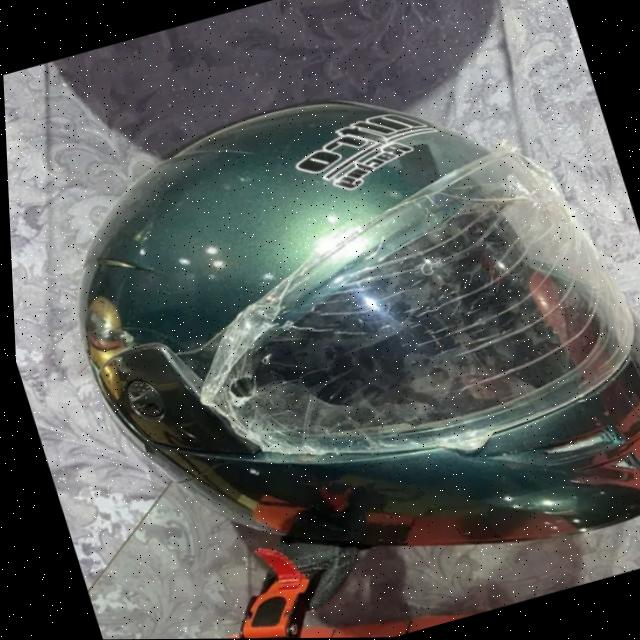Helmet: (24, 23, 640, 623)
